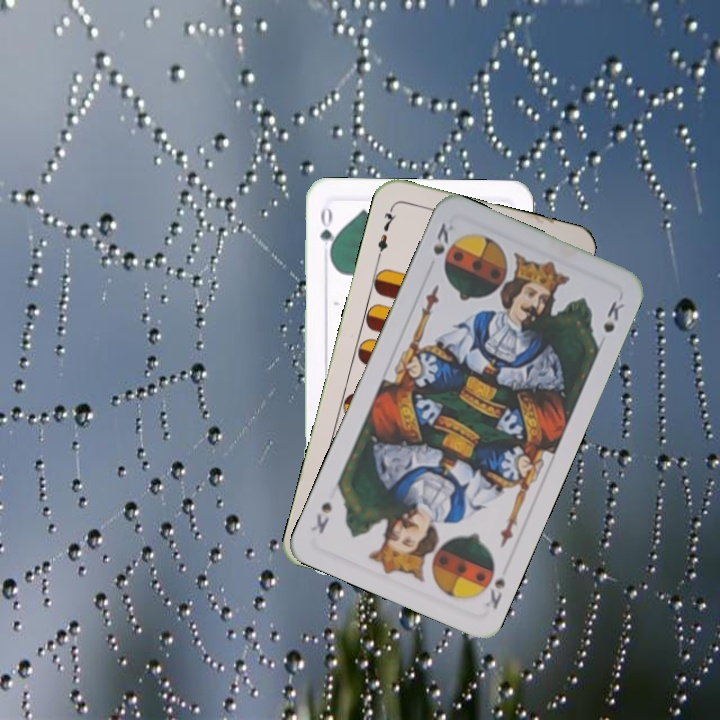E7: (373, 202, 399, 260)
GO: (316, 202, 339, 261)
SK: (429, 218, 457, 258), (481, 574, 509, 612)
